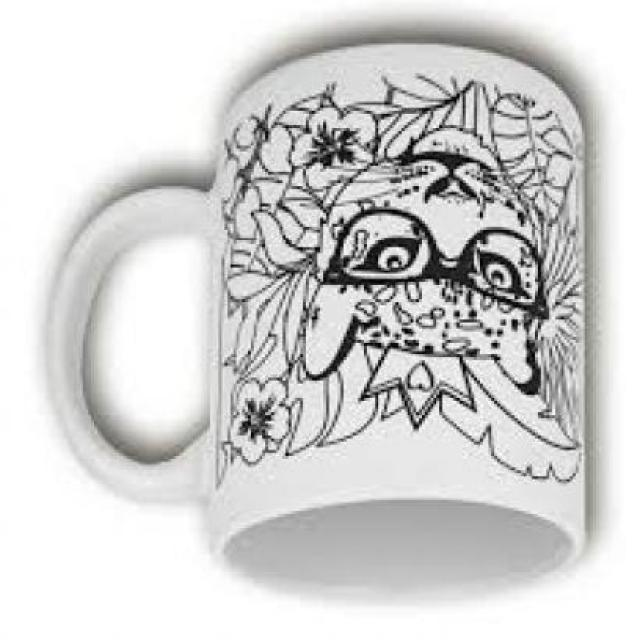cup: (39, 41, 596, 606)
